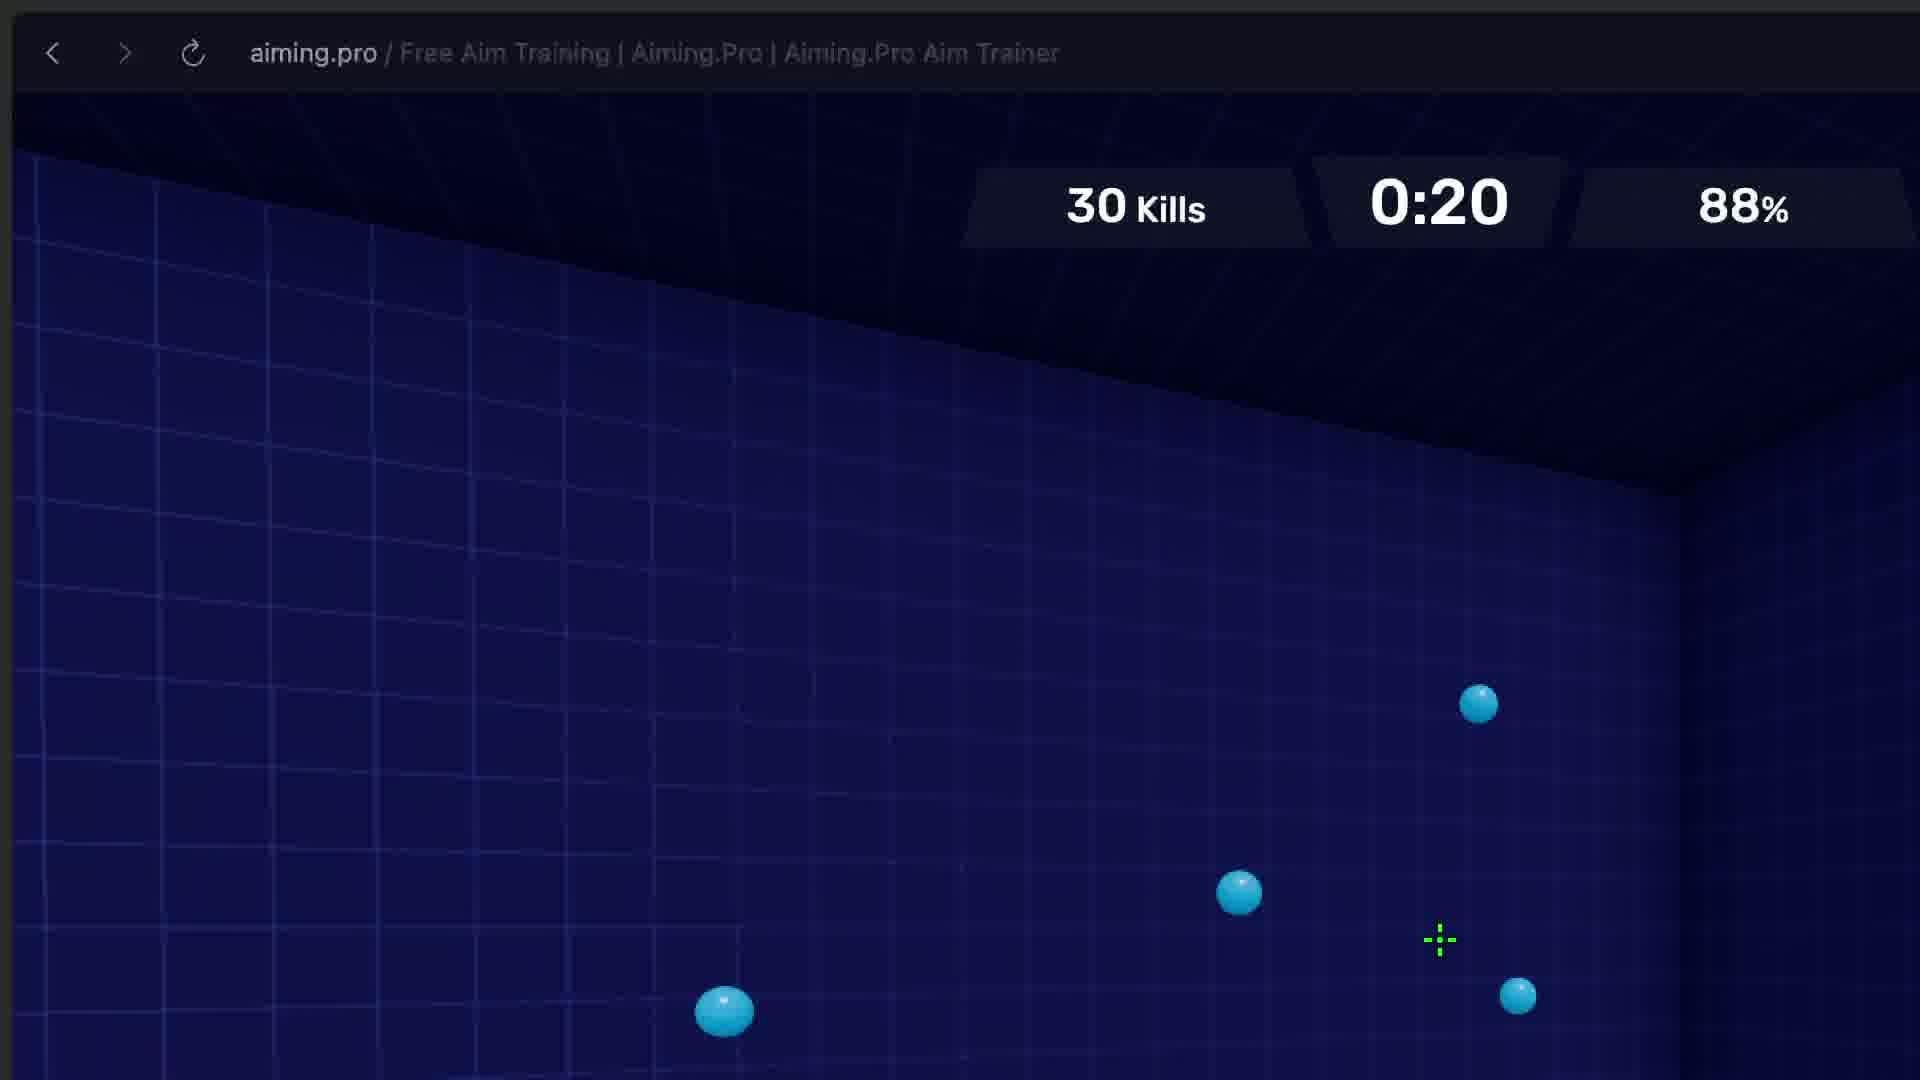target: (694, 986, 756, 1036), (1216, 869, 1263, 916), (1495, 978, 1538, 1018), (1458, 684, 1498, 724)
